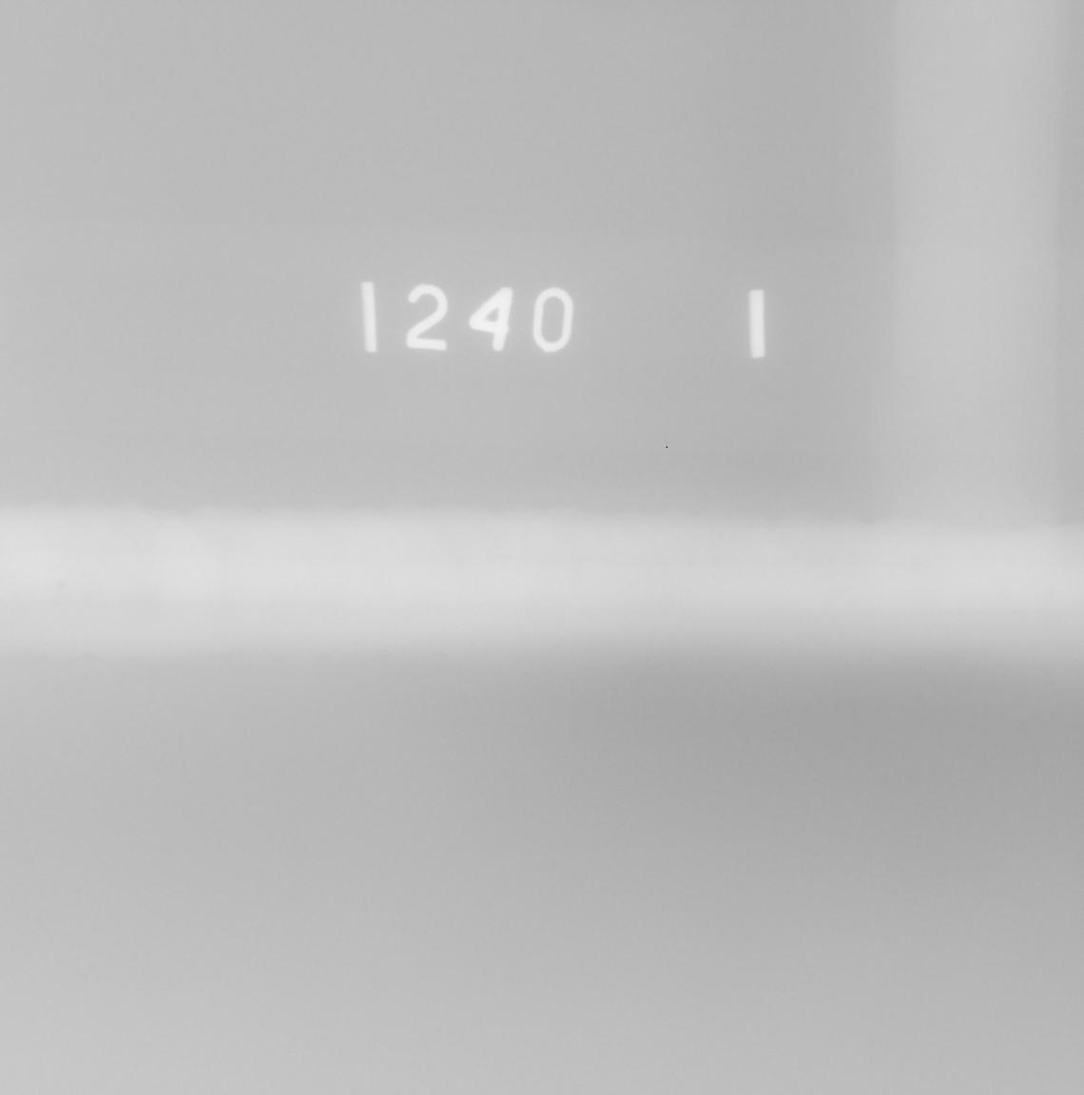Pore/Porosity: (55, 578, 66, 589), (1046, 592, 1053, 599), (628, 582, 634, 587)
